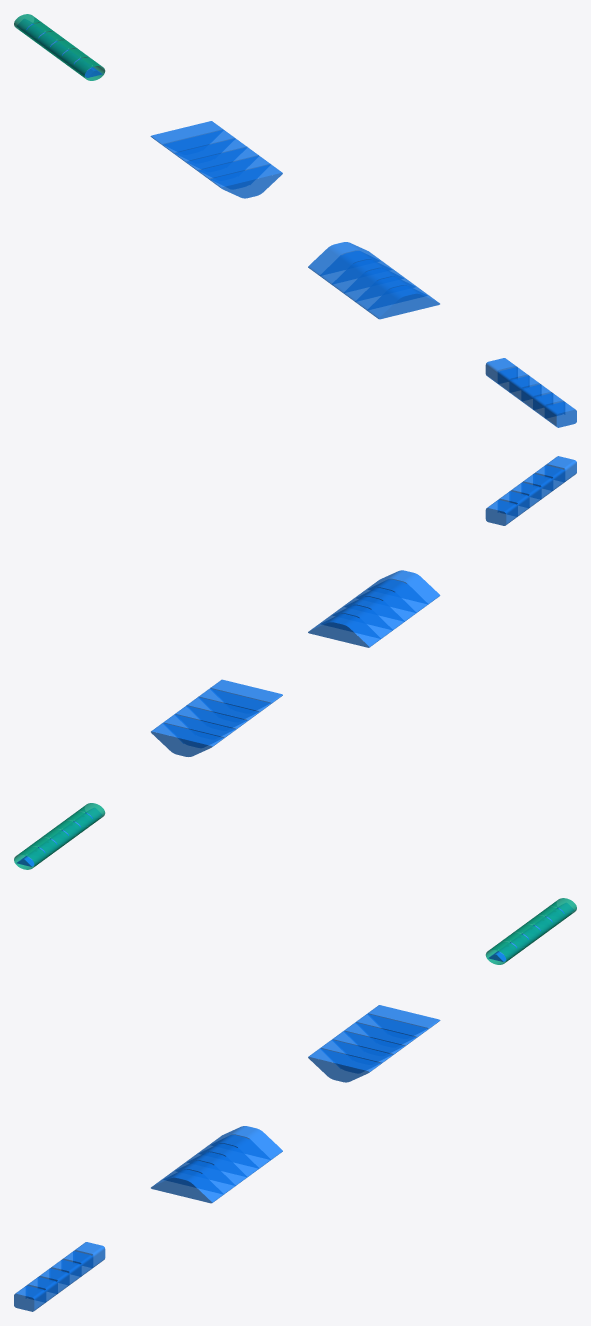
Rendered from precomputed_components.glb.
3 renders of one model, top to bottom at view 1: azimuth 30°, elevation 25°; view 2: azimuth 150°, elevation 25°; view 3: azimuth 330°, elevation 25°, orthographic.
Size of the model in its own units: 454 by 120 by 6900.
